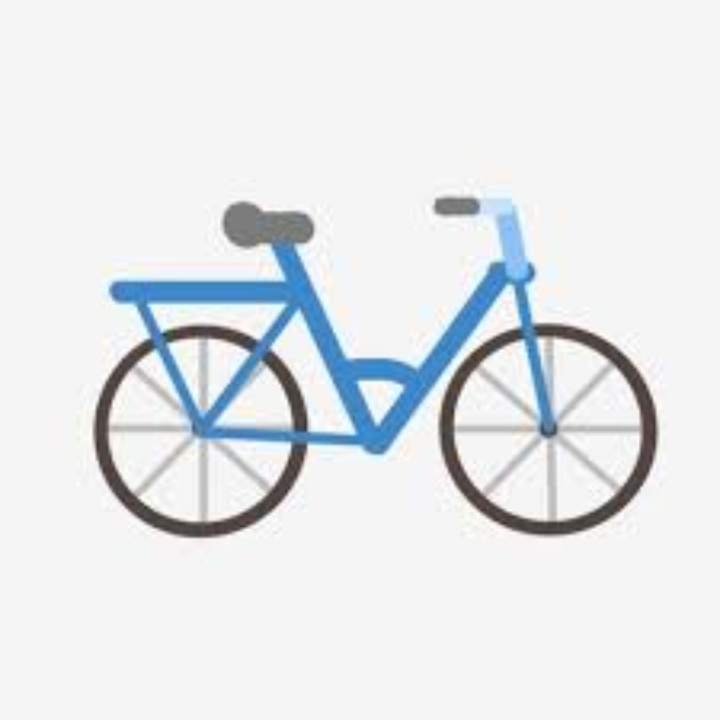bicycle: (85, 103, 663, 681)
